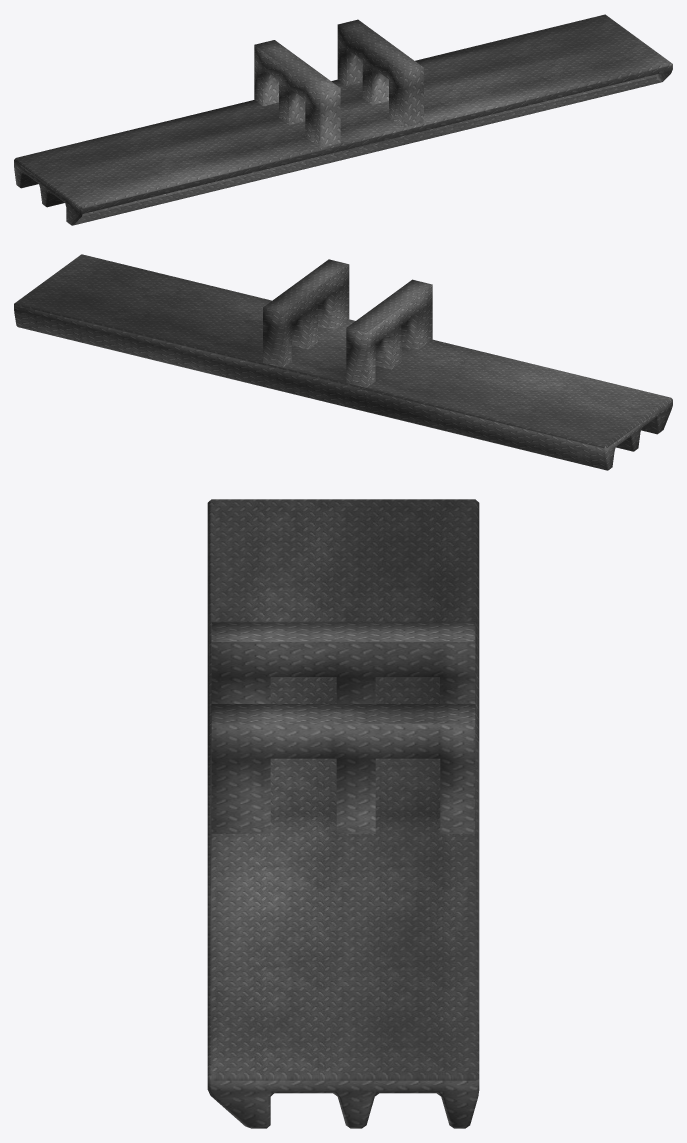
Rendered from gasieniacapart.obj.
3 views of the same model, one above another, from view 1: azimuth 30°, elevation 25°; view 2: azimuth 150°, elevation 25°; view 3: azimuth 270°, elevation 25° (orthographic). The views are drawn at different scales.
Visible parts, largest first — view 1: Gasienice_Archm2; view 2: Gasienice_Archm2; view 3: Gasienice_Archm2.
Boxes of the visible parts, box(x1,y1,x2,y2) form: Gasienice_Archm2: box(14, 14, 672, 225); Gasienice_Archm2: box(14, 254, 672, 470); Gasienice_Archm2: box(207, 499, 479, 1128).
Size of the model in its own units: 0.5817 by 0.0768 by 0.1154.
